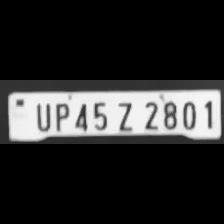0: (180, 99, 198, 131)
1: (200, 98, 216, 130)
2: (136, 99, 160, 131)
4: (71, 99, 89, 130)
5: (88, 99, 110, 131)
8: (160, 99, 178, 131)
P: (50, 100, 70, 132)
U: (30, 100, 52, 132)
Z: (113, 98, 136, 132)
